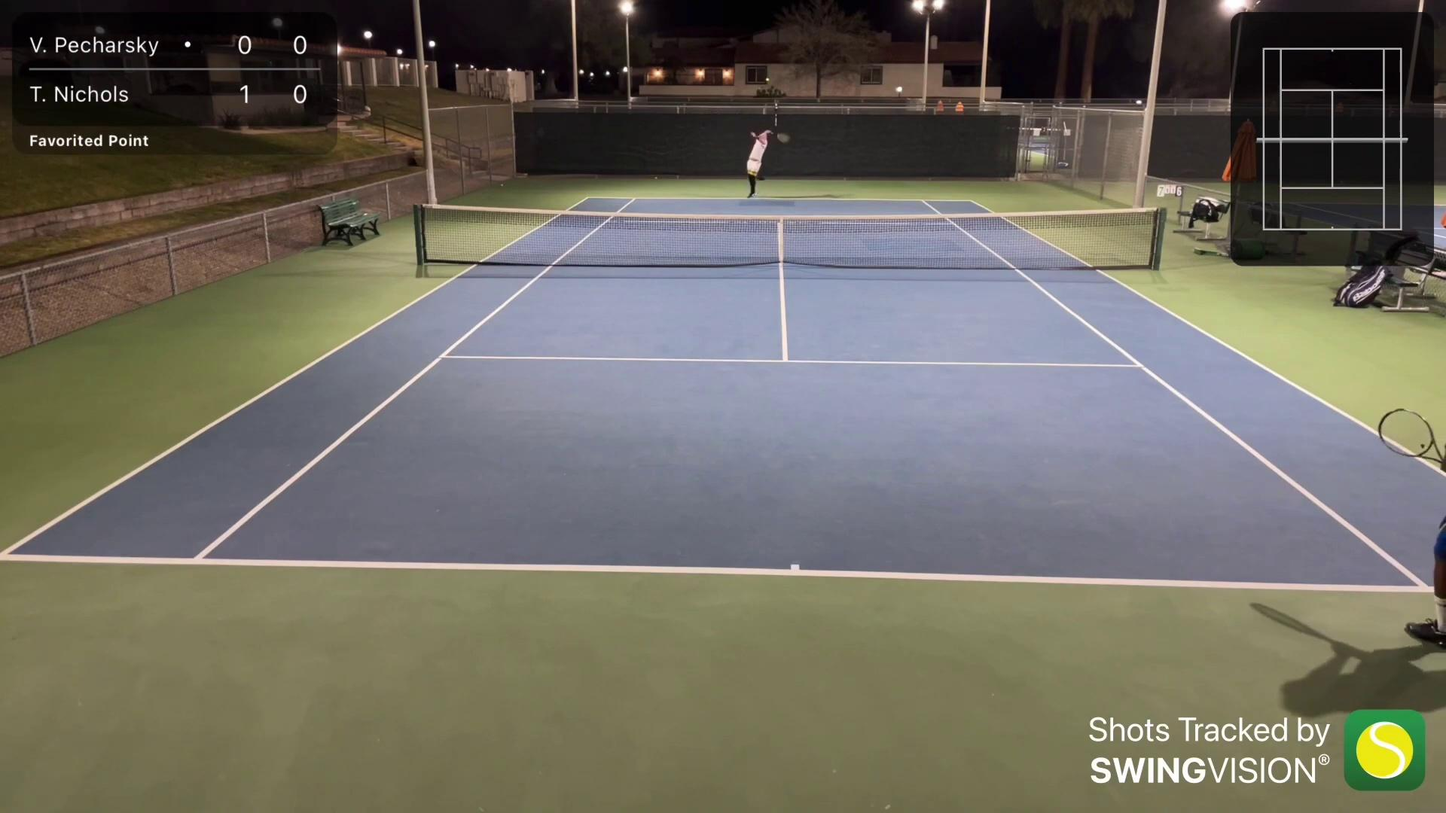ball: (499, 181, 507, 187), (766, 76, 771, 83)
